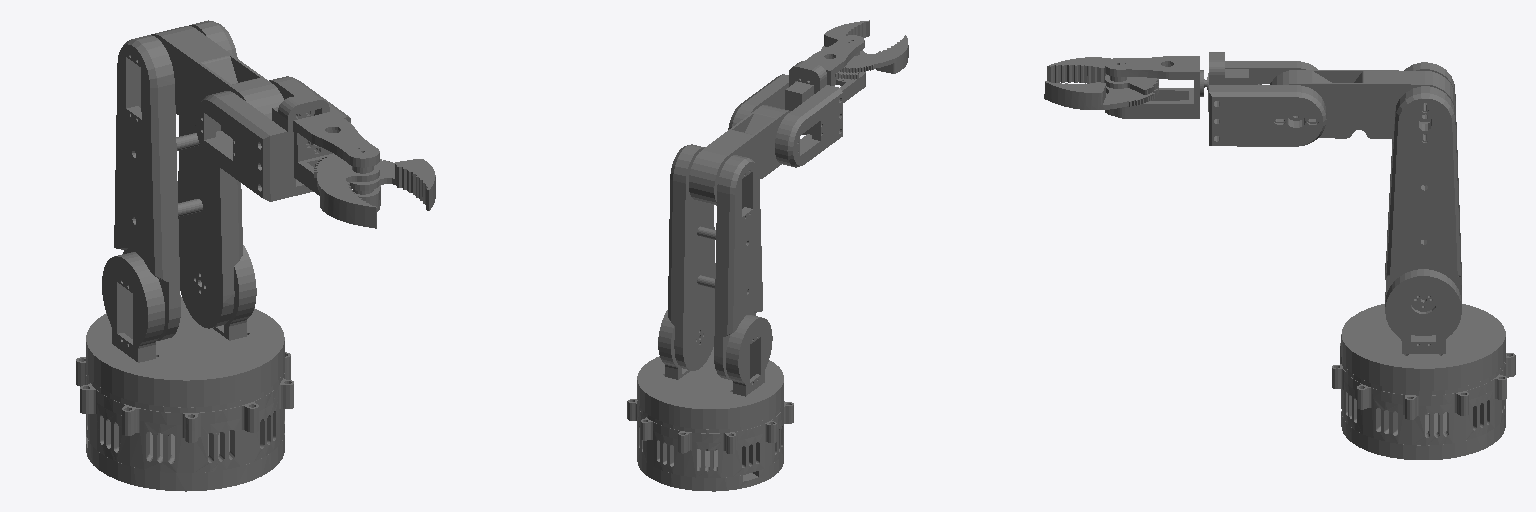
robot.urdf — robotic_arm:
<?xml version="1.0" encoding="utf-8"?>
<!-- This URDF was automatically created by SolidWorks to URDF Exporter! Originally created by
[author] ([email redacted]) 
     Commit Version: 1.5.1-0-g916b5db  Build Version: 1.5.7152.31018
     For more information, please see http://wiki.ros.org/sw_urdf_exporter -->
<robot
  name="robotic_arm">
  <link name="world" />
  <joint name="base_joint" type="fixed">
    <parent link="world" />
    <child link="base_link" />
    <origin rpy="0 0 0" xyz="0.0 0.0 0.0" />
  </joint>
  <link
    name="base_link">
    <inertial>
      <origin
        xyz="0.000454528386228833 -0.000302669270904221 0.0302331731944049"
        rpy="0 0 0" />
      <mass
        value="0.555206588878508" />
      <inertia
        ixx="0.00100566469503316"
        ixy="-1.36920441366169E-05"
        ixz="-6.05386038711752E-07"
        iyy="0.00099809821083753"
        iyz="2.78623219846149E-07"
        izz="0.00194501574960672" />
    </inertial>
    <self_collide>true</self_collide>

    <visual>
      <origin
        xyz="0 0 0"
        rpy="0 0 0" />
      <geometry>
        <mesh
          filename="package://robotic_arm/meshes/base_link.STL" />
      </geometry>
      <material
        name="">
        <color
          rgba="0.501960784313725 0.501960784313725 0.501960784313725 1" />
      </material>
    </visual>
    <collision>
      <origin
        xyz="0 0 0"
        rpy="0 0 0" />
      <geometry>
        <mesh
          filename="package://robotic_arm/meshes/base_link.STL" />
      </geometry>
    </collision>
  </link>
  <link
    name="link_1">
    <inertial>
      <origin
        xyz="-0.00129528059724605 -0.00183017478543235 -0.000105390902916391"
        rpy="0 0 0" />
      <mass
        value="0.368463521364962" />
      <inertia
        ixx="0.000589336378921301"
        ixy="6.76692982782835E-16"
        ixz="3.36153373241822E-15"
        iyy="0.00101850958801356"
        iyz="1.91925947447566E-07"
        izz="0.000551134485833059" />
    </inertial>
    <self_collide>true</self_collide>
    <visual>
      <origin
        xyz="0 0 0"
        rpy="0 0 0" />
      <geometry>
        <mesh
          filename="package://robotic_arm/meshes/link_1.STL" />
      </geometry>
      <material
        name="">
        <color
          rgba="0.501960784313725 0.501960784313725 0.501960784313725 1" />
      </material>
    </visual>
    <collision>
      <origin
        xyz="0 0 0"
        rpy="0 0 0" />
      <geometry>
        <mesh
          filename="package://robotic_arm/meshes/link_1.STL" />
      </geometry>
    </collision>
  </link>
  <joint
    name="joint_1"
    type="revolute">
    <origin
      xyz="0 0 0.09225"
      rpy="-1.5708 0 0" />
    <parent
      link="base_link" />
    <child
      link="link_1" />
    <axis
      xyz="0 1 0" />
    <limit
      lower="0"
      upper="6.283"
      effort="300"
      velocity="3" />
  </joint>
  <link
    name="link_2">
    <inertial>
      <origin
        xyz="-0.0173938365175276 2.48134846003722E-14 -0.0932380394807353"
        rpy="0 0 0" />
      <mass
        value="0.460676266929449" />
      <inertia
        ixx="0.00184587833790606"
        ixy="-7.66246505564162E-13"
        ixz="1.59351514099875E-06"
        iyy="0.00171083372728511"
        iyz="1.56054259537726E-13"
        izz="0.00016644976368905" />
    </inertial>
    <self_collide>true</self_collide>
    <visual>
      <origin
        xyz="0 0 0"
        rpy="0 0 0" />
      <geometry>
        <mesh
          filename="package://robotic_arm/meshes/link_2.STL" />
      </geometry>
      <material
        name="">
        <color
          rgba="0.501960784313725 0.501960784313725 0.501960784313725 1" />
      </material>
    </visual>
    <collision>
      <origin
        xyz="0 0 0"
        rpy="0 0 0" />
      <geometry>
        <mesh
          filename="package://robotic_arm/meshes/link_2.STL" />
      </geometry>
    </collision>
  </link>
  <joint
    name="joint_2"
    type="revolute">
    <origin
      xyz="0.01266 -0.043 0"
      rpy="-1.5788 0 0" />
    <parent
      link="link_1" />
    <child
      link="link_2" />
    <axis
      xyz="1 0 0" />
    <limit
      lower="-1.57"
      upper="1.57"
      effort="300"
      velocity="3" />
  </joint>
  <link
    name="link_3">
    <inertial>
      <origin
        xyz="0.000113073323768614 -0.000707151250188505 -0.0578023076202162"
        rpy="0 0 0" />
      <mass
        value="0.233433056175268" />
      <inertia
        ixx="0.000571109636740069"
        ixy="-1.86652936947289E-08"
        ixz="2.50143892078807E-08"
        iyy="0.000533764178562199"
        iyz="-4.65917846588896E-06"
        izz="7.15009693491387E-05" />
    </inertial>
    <self_collide>true</self_collide>
    <visual>
      <origin
        xyz="0 0 0"
        rpy="0 0 0" />
      <geometry>
        <mesh
          filename="package://robotic_arm/meshes/link_3.STL" />
      </geometry>
      <material
        name="">
        <color
          rgba="0.501960784313725 0.501960784313725 0.501960784313725 1" />
      </material>
    </visual>
    <collision>
      <origin
        xyz="0 0 0"
        rpy="0 0 0" />
      <geometry>
        <mesh
          filename="package://robotic_arm/meshes/link_3.STL" />
      </geometry>
    </collision>
  </link>
  <joint
    name="joint_3"
    type="revolute">
    <origin
      xyz="-0.0184 0 -0.185"
      rpy="-1.5696 0 3.1416" />
    <parent
      link="link_2" />
    <child
      link="link_3" />
    <axis
      xyz="1 0 0" />
    <limit
      lower="-1.0"
      upper="4.14"
      effort="300"
      velocity="3" />
  </joint>
  <link
    name="link_4">
    <inertial>
      <origin
        xyz="-0.0164766971219827 -0.00214733921697745 -0.0395286263542515"
        rpy="0 0 0" />
      <mass
        value="0.237132435221668" />
      <inertia
        ixx="0.0002320004492489"
        ixy="7.92790751917672E-21"
        ixz="-2.51724359466701E-07"
        iyy="0.000175352374553037"
        iyz="-6.09805618217261E-08"
        izz="7.77538891579693E-05" />
    </inertial>
    <self_collide>true</self_collide>
    <visual>
      <origin
        xyz="0 0 0"
        rpy="0 0 0" />
      <geometry>
        <mesh
          filename="package://robotic_arm/meshes/link_4.STL" />
      </geometry>
      <material
        name="">
        <color
          rgba="0.501960784313725 0.501960784313725 0.501960784313725 1" />
      </material>
    </visual>
    <collision>
      <origin
        xyz="0 0 0"
        rpy="0 0 0" />
      <geometry>
        <mesh
          filename="package://robotic_arm/meshes/link_4.STL" />
      </geometry>
    </collision>
  </link>
  <joint
    name="joint_4"
    type="revolute">
    <origin
      xyz="-0.0184 0 -0.1175"
      rpy="0.0054027 0 3.1416" />
    <parent
      link="link_3" />
    <child
      link="link_4" />
    <axis
      xyz="1 0 0" />
    <limit
      lower="-2.14"
      upper="2.14"
      effort="300"
      velocity="3" />
  </joint>
  <link
    name="link_5">
    <inertial>
      <origin
        xyz="2.76519416878007E-07 0.0233833245740031 0.000606183982249847"
        rpy="0 0 0" />
      <mass
        value="0.050610365817931" />
      <inertia
        ixx="4.21509740108801E-05"
        ixy="1.56919564397777E-13"
        ixz="1.96823158449653E-13"
        iyy="4.53193193640307E-05"
        iyz="2.15367686640589E-06"
        izz="7.46329001603445E-06" />
    </inertial>
    <self_collide>true</self_collide>
    <visual>
      <origin
        xyz="0 0 0"
        rpy="0 0 0" />
      <geometry>
        <mesh
          filename="package://robotic_arm/meshes/link_5.STL" />
      </geometry>
      <material
        name="">
        <color
          rgba="0.501960784313725 0.501960784313725 0.501960784313725 1" />
      </material>
    </visual>
    <collision>
      <origin
        xyz="0 0 0"
        rpy="0 0 0" />
      <geometry>
        <mesh
          filename="package://robotic_arm/meshes/link_5.STL" />
      </geometry>
    </collision>
  </link>
  <joint
    name="joint_5"
    type="fixed">
    <origin
      xyz="-0.01865 0.0073984 -0.12777"
      rpy="0 0 -3.1416" />
    <parent
      link="link_4" />
    <child
      link="link_5" />
    <axis
      xyz="0 0 -1" />
    <limit
      lower="-6.283"
      upper="6.283"
      effort="300"
      velocity="3" />
  </joint>
  <link
    name="eef_link_r">
    <inertial>
      <origin
        xyz="-0.0176853779723258 -0.0112790007486472 -0.0204831374002998"
        rpy="0 0 0" />
      <mass
        value="0.0235861713981624" />
      <inertia
        ixx="1.84146067739889E-05"
        ixy="2.53501114470455E-07"
        ixz="-2.03988901053199E-06"
        iyy="2.05791529306359E-05"
        iyz="1.71928521769893E-06"
        izz="3.36503087469021E-06" />
    </inertial>
    <self_collide>true</self_collide>
    <visual>
      <origin
        xyz="0 0 0"
        rpy="0 0 0" />
      <geometry>
        <mesh
          filename="package://robotic_arm/meshes/eef_link_r.STL" />
      </geometry>
      <material
        name="">
        <color
          rgba="0.501960784313725 0.501960784313725 0.501960784313725 1" />
      </material>
    </visual>
    <collision>
      <origin
        xyz="0 0 0"
        rpy="0 0 0" />
      <geometry>
        <mesh
          filename="package://robotic_arm/meshes/eef_link_r.STL" />
      </geometry>
    </collision>
  </link>
  <joint
    name="eef_joint_r"
    type="revolute">
    <origin
      xyz="0 0.015 -0.03475"
      rpy="0 0.37686 3.1416" />
    <parent
      link="link_5" />
    <child
      link="eef_link_r" />
    <axis
      xyz="0 1 0" />
    <limit
      lower="-0.3"
      upper="0.3"
      effort="300"
      velocity="3" />
  </joint>
  <link
    name="eef_link_l">
    <inertial>
      <origin
        xyz="-0.0176852937948024 0.00622199674148659 -0.0204832377983133"
        rpy="0 0 0" />
      <mass
        value="0.0235861589775242" />
      <inertia
        ixx="1.84147275050698E-05"
        ixy="2.53492698038198E-07"
        ixz="-2.03990695003512E-06"
        iyy="2.05791818527812E-05"
        iyz="1.71929551412545E-06"
        izz="3.36493835662023E-06" />
    </inertial>
    <self_collide>true</self_collide>
    <visual>
      <origin
        xyz="0 0 0"
        rpy="0 0 0" />
      <geometry>
        <mesh
          filename="package://robotic_arm/meshes/eef_link_l.STL" />
      </geometry>
      <material
        name="">
        <color
          rgba="0.501960784313725 0.501960784313725 0.501960784313725 1" />
      </material>
    </visual>
    <collision>
      <origin
        xyz="0 0 0"
        rpy="0 0 0" />
      <geometry>
        <mesh
          filename="package://robotic_arm/meshes/eef_link_l.STL" />
      </geometry>
    </collision>
  </link>
  <joint
    name="eef_joint_l"
    type="revolute">
    <origin
      xyz="0 0.02 -0.03475"
      rpy="0 0.26836 0" />
    <parent
      link="link_5" />
    <child
      link="eef_link_l" />
    <axis
      xyz="0 -1 0" />
    <limit
      lower="-0.3"
      upper="0.3"
      effort="300"
      velocity="3" />
  </joint>

  <transmission name="link_1_trans">
    <type>transmission_interface/SimpleTransmission</type>
    <joint name="joint_1">
      <hardwareInterface>hardware_interface/PositionJointInterface</hardwareInterface>
    </joint>
    <actuator name="link_1_motor">
      <hardwareInterface>hardware_interface/PositionJointInterface</hardwareInterface>
      <mechanicalReduction>1</mechanicalReduction>
    </actuator>
  </transmission>

  <transmission name="link_2_trans">
    <type>transmission_interface/SimpleTransmission</type>
    <joint name="joint_2">
      <hardwareInterface>hardware_interface/PositionJointInterface</hardwareInterface>
    </joint>
    <actuator name="link_2_motor">
      <hardwareInterface>hardware_interface/PositionJointInterface</hardwareInterface>
      <mechanicalReduction>1</mechanicalReduction>
    </actuator>
  </transmission>

  <transmission name="link_3_trans">
    <type>transmission_interface/SimpleTransmission</type>
    <joint name="joint_3">
      <hardwareInterface>hardware_interface/PositionJointInterface</hardwareInterface>
    </joint>
    <actuator name="link_3_motor">
      <hardwareInterface>hardware_interface/PositionJointInterface</hardwareInterface>
      <mechanicalReduction>1</mechanicalReduction>
    </actuator>
  </transmission>

  <transmission name="link_4_trans">
    <type>transmission_interface/SimpleTransmission</type>
    <joint name="joint_4">
      <hardwareInterface>hardware_interface/PositionJointInterface</hardwareInterface>
    </joint>
    <actuator name="link_4_motor">
      <hardwareInterface>hardware_interface/PositionJointInterface</hardwareInterface>
      <mechanicalReduction>1</mechanicalReduction>
    </actuator>
  </transmission>

  <transmission name="eef_link_r_trans">
    <type>transmission_interface/SimpleTransmission</type>
    <joint name="eef_joint_r">
      <hardwareInterface>hardware_interface/PositionJointInterface</hardwareInterface>
    </joint>
    <actuator name="eef_link_r_motor">
      <hardwareInterface>hardware_interface/PositionJointInterface</hardwareInterface>
      <mechanicalReduction>1</mechanicalReduction>
    </actuator>
  </transmission>

  <transmission name="eef_link_l_trans">
    <type>transmission_interface/SimpleTransmission</type>
    <joint name="eef_joint_l">
      <hardwareInterface>hardware_interface/PositionJointInterface</hardwareInterface>
    </joint>
    <actuator name="eef_link_l_motor">
      <hardwareInterface>hardware_interface/PositionJointInterface</hardwareInterface>
      <mechanicalReduction>1</mechanicalReduction>
    </actuator>
  </transmission>

  <ros2_control name="ros2_control" type="system">
    <hardware>
      <plugin>gazebo_ros2_control/GazeboSystem</plugin>
    </hardware>

    <joint name="joint_1">
      <command_interface name="position">
        <param name="min">0</param>
        <param name="max">6.283</param>
      </command_interface>
      <command_interface name="velocity">
        <param name="min">-3.15</param>
        <param name="max">3.15</param>
      </command_interface>
      <state_interface name="position">
        <param name="initial_value">0.0</param>
      </state_interface>
      <state_interface name="velocity" />
    </joint>

    <joint name="joint_2">
      <command_interface name="position">
        <param name="min">-1.57</param>
        <param name="max">1.57</param>
      </command_interface>
      <command_interface name="velocity">
        <param name="min">-3.15</param>
        <param name="max">3.15</param>
      </command_interface>
      <state_interface name="position">
        <param name="initial_value">0.0</param>
      </state_interface>
      <state_interface name="velocity" />
    </joint>

    <joint name="joint_3">
      <command_interface name="position">
        <param name="min">-1.0</param>
        <param name="max">4.14</param>
      </command_interface>
      <command_interface name="velocity">
        <param name="min">-3.15</param>
        <param name="max">3.15</param>
      </command_interface>
      <state_interface name="position">
        <param name="initial_value">0.0</param>
      </state_interface>
      <state_interface name="velocity" />
    </joint>

    <joint name="joint_4">
      <command_interface name="position">
        <param name="min">-2.14</param>
        <param name="max">2.14</param>
      </command_interface>
      <command_interface name="velocity">
        <param name="min">-3.15</param>
        <param name="max">3.15</param>
      </command_interface>
      <state_interface name="position">
        <param name="initial_value">0.0</param>
      </state_interface>
      <state_interface name="velocity" />
    </joint>

    <joint name="eef_joint_r">
      <command_interface name="position">
        <param name="min">-0.3</param>
        <param name="max">0.3</param>
      </command_interface>
      <command_interface name="velocity">
        <param name="min">-3.15</param>
        <param name="max">3.15</param>
      </command_interface>
      <state_interface name="position">
        <param name="initial_value">0.0</param>
      </state_interface>
      <state_interface name="velocity" />
    </joint>

    <joint name="eef_joint_l">
      <command_interface name="position">
        <param name="min">-0.3</param>
        <param name="max">0.3</param>
      </command_interface>
      <command_interface name="velocity">
        <param name="min">-3.15</param>
        <param name="max">3.15</param>
      </command_interface>
      <state_interface name="position">
        <param name="initial_value">0.0</param>
      </state_interface>
      <state_interface name="velocity" />
    </joint>
  </ros2_control>

  <gazebo>
    <plugin filename="libgazebo_ros2_control.so" name="gazebo_ros2_control">
      <robot_param>robot_description</robot_param>
      <robot_param_node>robot_state_publisher</robot_param_node>
      <parameters>[local-path]/moveit2_ws/src/robotic_arm/config/ros_controllers.yaml</parameters>
      <!-- <controller_manager_name>simulation_controller_manager</controller_manager_name> -->
    </plugin>
  </gazebo>

</robot>

--- Render facts (derived) ---
3 views of the same robot in one strip: view 1: azimuth 30°, elevation 25°; view 2: azimuth 150°, elevation 25°; view 3: azimuth 270°, elevation 25° (orthographic).
Model robotic_arm with 9 links and 8 joints (6 revolute, 2 fixed), rooted at world, posed every joint at zero.
Visible links, largest first — view 1: link_2, link_1, base_link, link_4, link_3, link_5, eef_link_r, eef_link_l; view 2: link_2, link_1, base_link, link_4, link_3, link_5, eef_link_r, eef_link_l; view 3: link_1, link_2, base_link, link_4, link_3, link_5, eef_link_l, eef_link_r.
Boxes of the visible links, x1,y1,x2,y2 form: link_2: [114, 20, 242, 340]; link_1: [86, 245, 284, 412]; base_link: [76, 352, 293, 491]; link_4: [195, 76, 350, 201]; link_3: [151, 26, 283, 138]; link_5: [293, 111, 380, 211]; eef_link_r: [314, 154, 379, 228]; eef_link_l: [350, 159, 435, 210]; link_2: [668, 144, 762, 379]; link_1: [637, 310, 783, 450]; base_link: [627, 399, 793, 491]; link_4: [728, 61, 842, 167]; link_3: [689, 105, 790, 205]; link_5: [805, 35, 865, 102]; eef_link_r: [840, 35, 908, 73]; eef_link_l: [821, 20, 869, 79]; link_1: [1341, 262, 1505, 414]; link_2: [1385, 62, 1461, 335]; base_link: [1332, 343, 1515, 459]; link_4: [1205, 52, 1326, 146]; link_3: [1270, 70, 1454, 138]; link_5: [1105, 56, 1204, 118]; eef_link_l: [1044, 81, 1158, 109]; eef_link_r: [1047, 57, 1158, 94].
Size in the robot's own frame: 0.1681 by 0.4297 by 0.3691 metres.
Meshes: 8 distinct files referenced, 8 mesh visuals loaded (8 binary STL).
